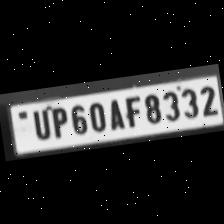0: (84, 96, 107, 132)
2: (194, 81, 218, 117)
3: (158, 86, 181, 122), (177, 84, 200, 120)
6: (64, 100, 88, 136)
8: (140, 88, 164, 124)
A: (104, 95, 126, 131)
F: (121, 91, 143, 127)
P: (45, 103, 69, 139)
U: (28, 104, 52, 140)
